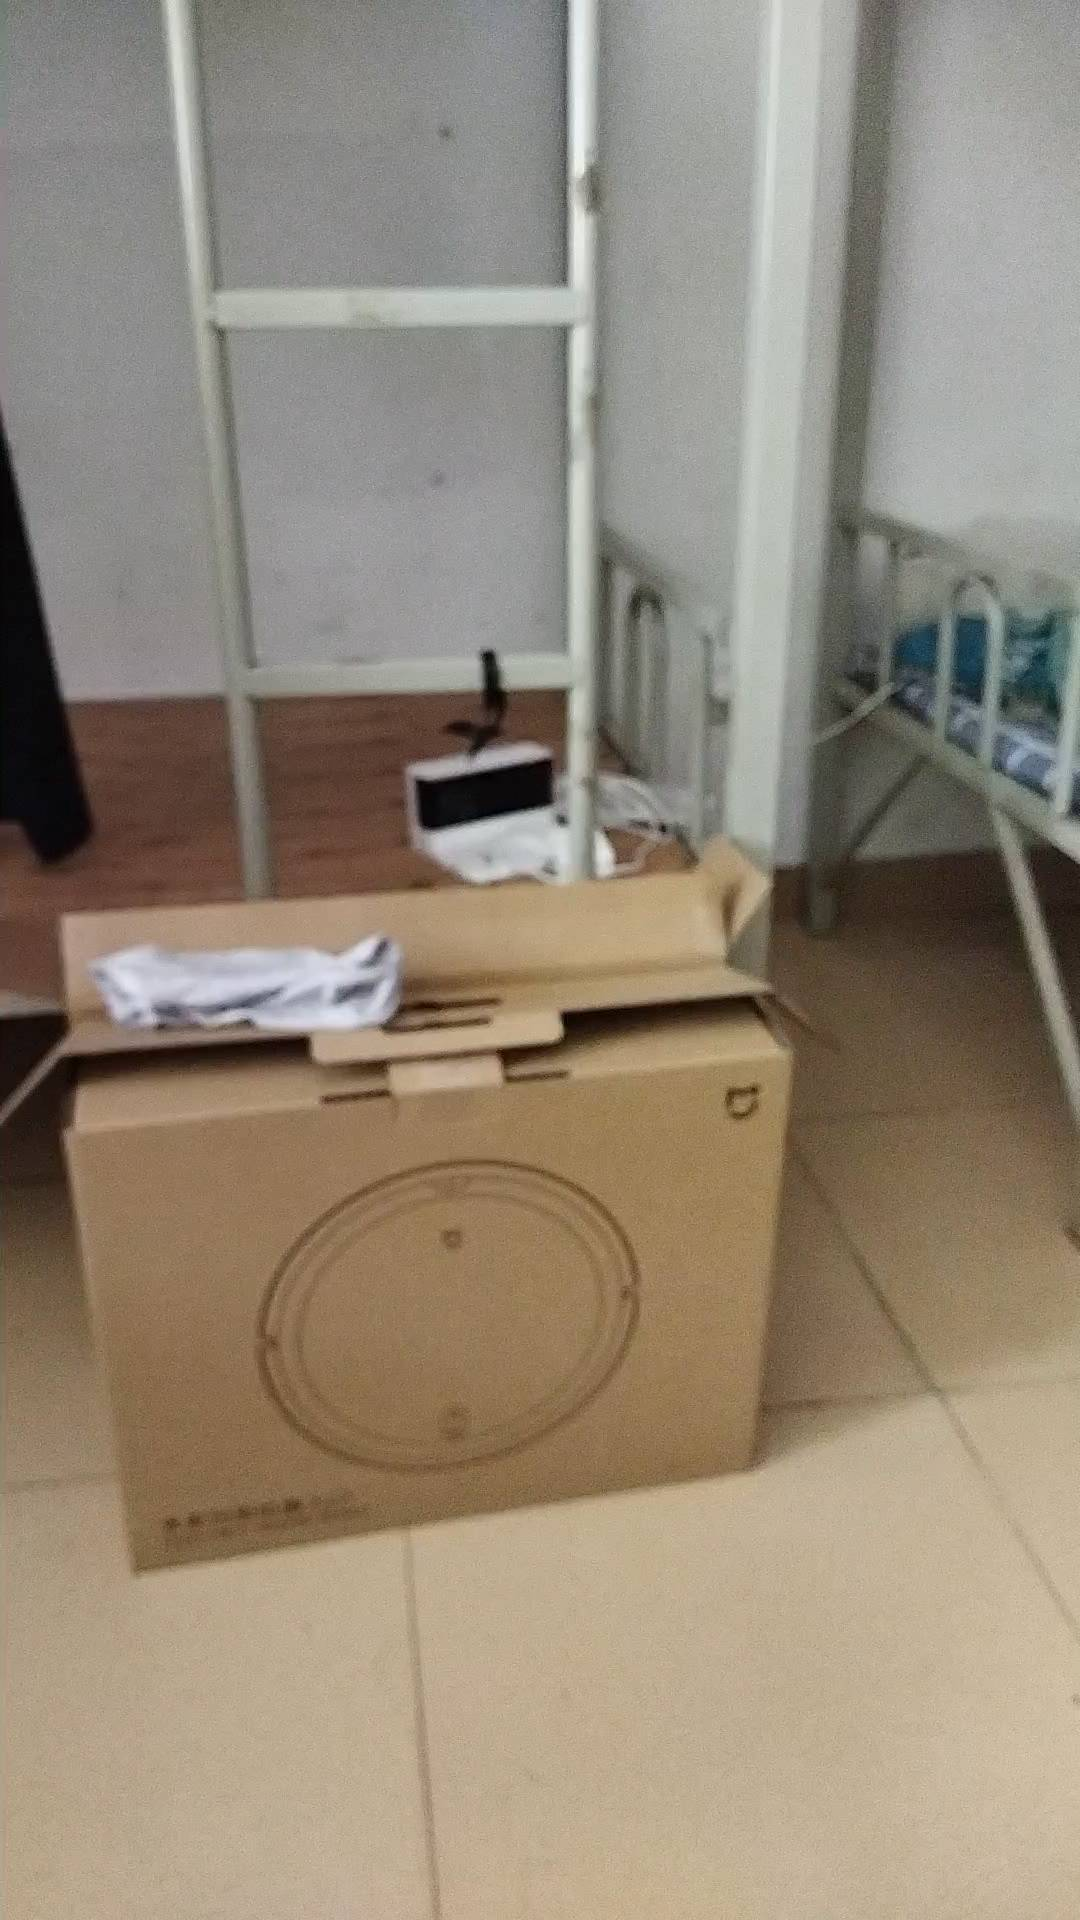recharge seat: (405, 742, 576, 887)
